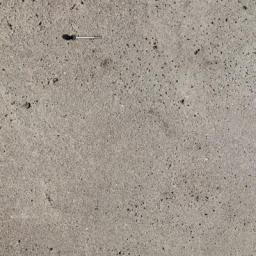FOD: (61, 30, 107, 43)
